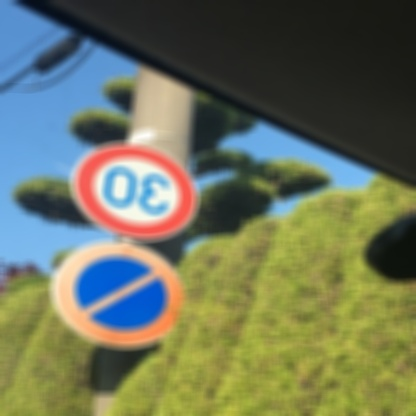Prohibition_sign: (49, 232, 187, 366)
Speed_sign: (65, 140, 209, 250)
